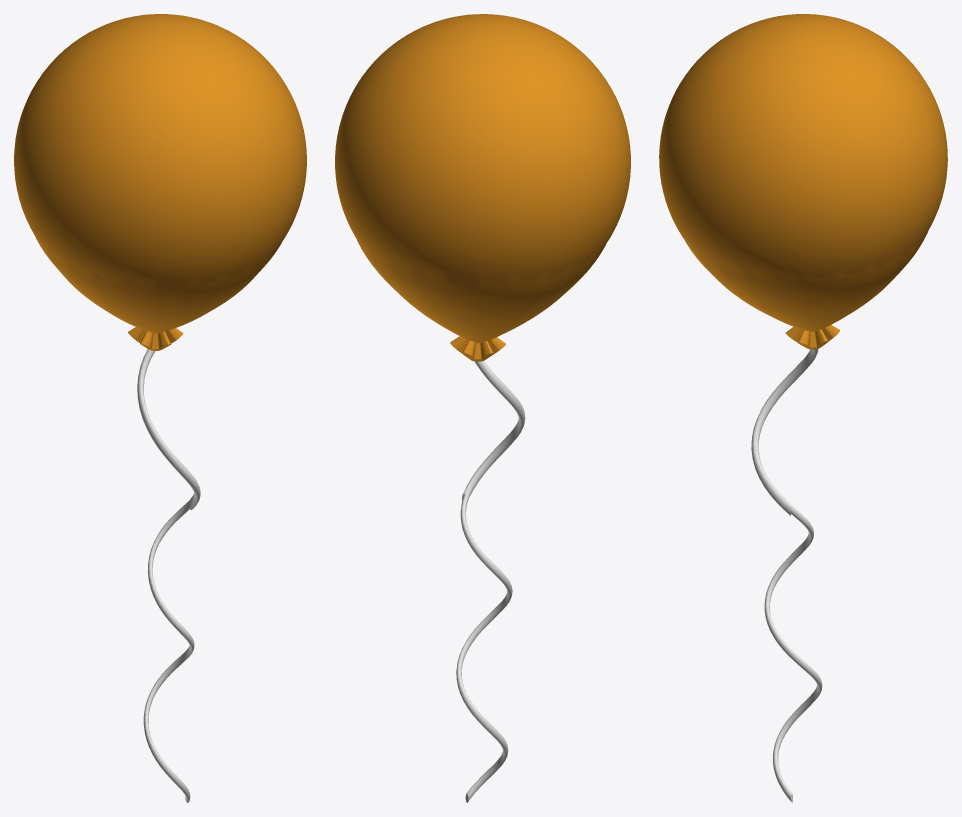
Rendered from balloon-4.glb.
The picture shows the model from 3 angles, left to right: view 1: azimuth 30°, elevation 25°; view 2: azimuth 150°, elevation 25°; view 3: azimuth 270°, elevation 25°; orthographic projection. The views are drawn at different scales.
Parts seen in each view (by area): view 1: group_0_15277357, group_0_6383466; view 2: group_0_15277357, group_0_6383466; view 3: group_0_15277357, group_0_6383466.
Part boxes in pixels (x1,y1,x2,y2): group_0_15277357: (14,14,306,350); group_0_6383466: (137,349,200,802); group_0_15277357: (335,14,630,361); group_0_6383466: (456,361,525,802); group_0_15277357: (659,14,947,349); group_0_6383466: (751,349,822,802).
Bounding box in the file's own units: 0.6252 × 1.83 × 0.625.
